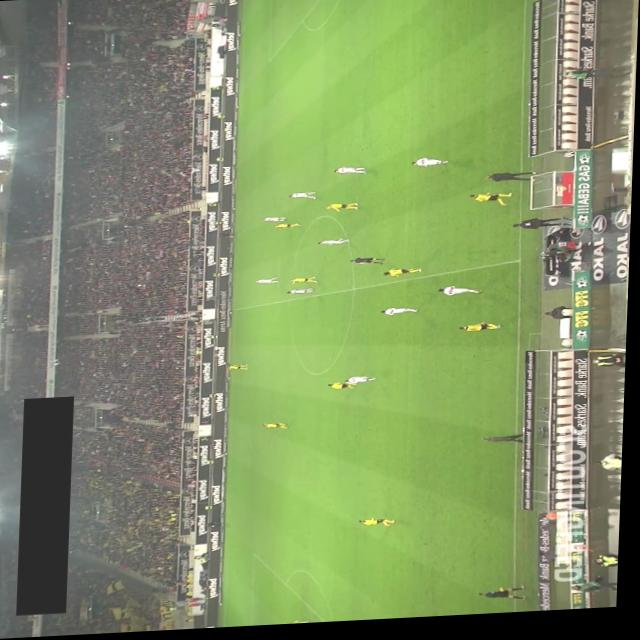goalkeeper: (291, 622, 315, 627)
player: (471, 196, 514, 212), (439, 289, 486, 301), (412, 160, 451, 172), (363, 520, 400, 532), (461, 326, 505, 336), (385, 271, 424, 281), (326, 205, 361, 216), (382, 310, 420, 320), (347, 378, 380, 387), (335, 169, 368, 178), (319, 241, 352, 249), (291, 279, 320, 288), (330, 384, 359, 393), (290, 194, 318, 203), (265, 425, 291, 432), (257, 279, 282, 286), (275, 225, 303, 231), (289, 291, 317, 297), (229, 365, 251, 372), (264, 218, 288, 224)
referee: (483, 590, 531, 607), (351, 259, 387, 270), (218, 233, 239, 240)
